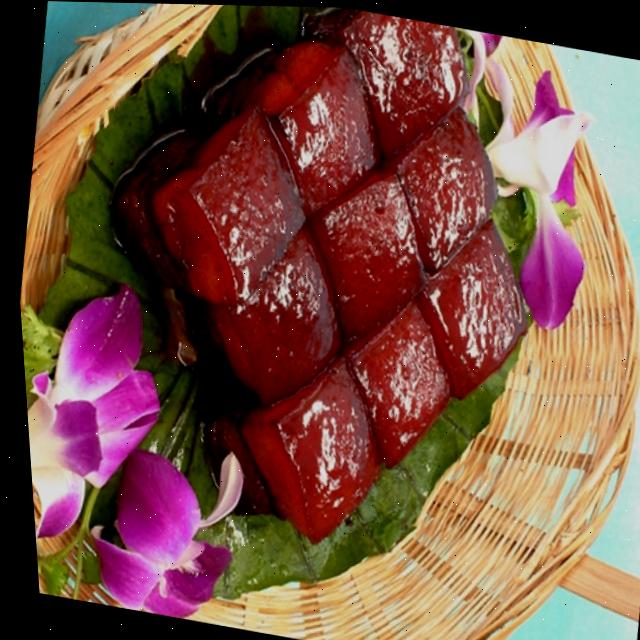牛肉菜式: (23, 0, 640, 612)
